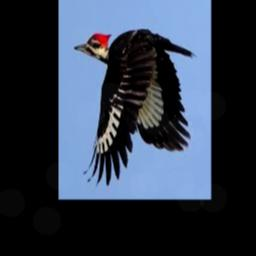Woodpecker: (74, 27, 197, 185)
